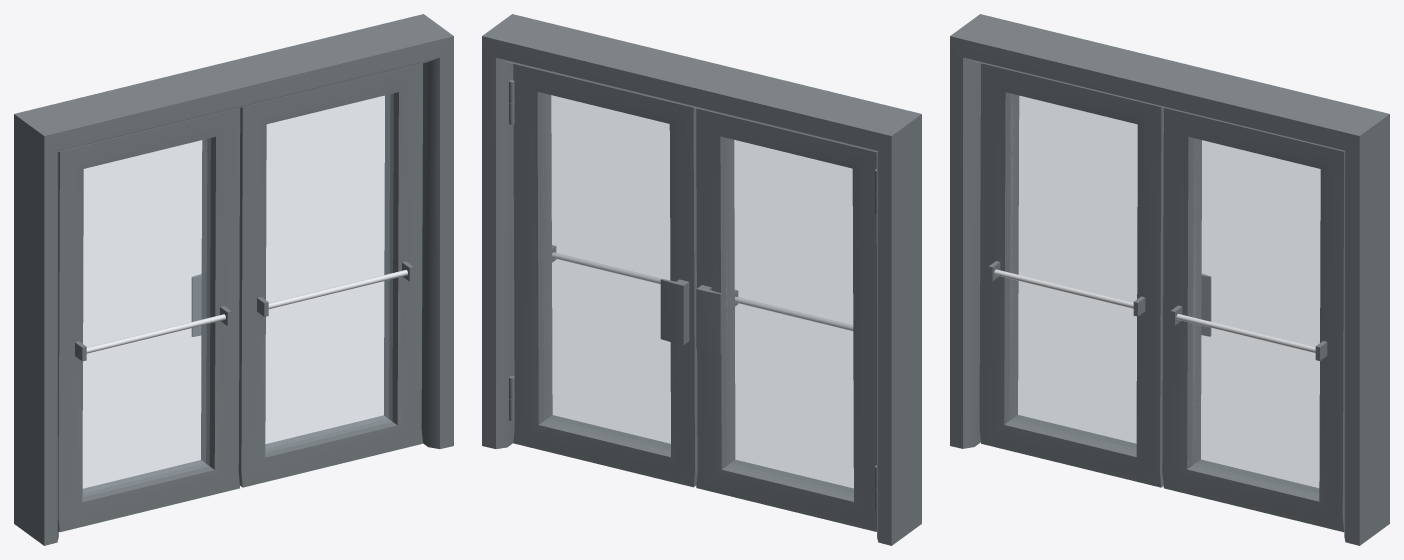
The model's file is sf_entrance_door.glb.
3 views of the same model, side by side, from view 1: azimuth 30°, elevation 25°; view 2: azimuth 150°, elevation 25°; view 3: azimuth 330°, elevation 25° (orthographic).
Parts seen in each view (by area): view 1: Object_3, Object_2, Object_4; view 2: Object_3, Object_2, Object_4; view 3: Object_3, Object_2, Object_4.
Part boxes in pixels (<box>): Object_3: <box>14,14,453,545</box>; Object_2: <box>83,94,392,496</box>; Object_4: <box>86,270,407,353</box>; Object_3: <box>482,14,921,545</box>; Object_2: <box>543,93,853,496</box>; Object_4: <box>552,252,853,330</box>; Object_3: <box>950,14,1389,545</box>; Object_2: <box>1009,94,1320,495</box>; Object_4: <box>994,269,1315,353</box>.
Bounding box in the file's own units: 2.51 × 2.4 × 0.3246.
